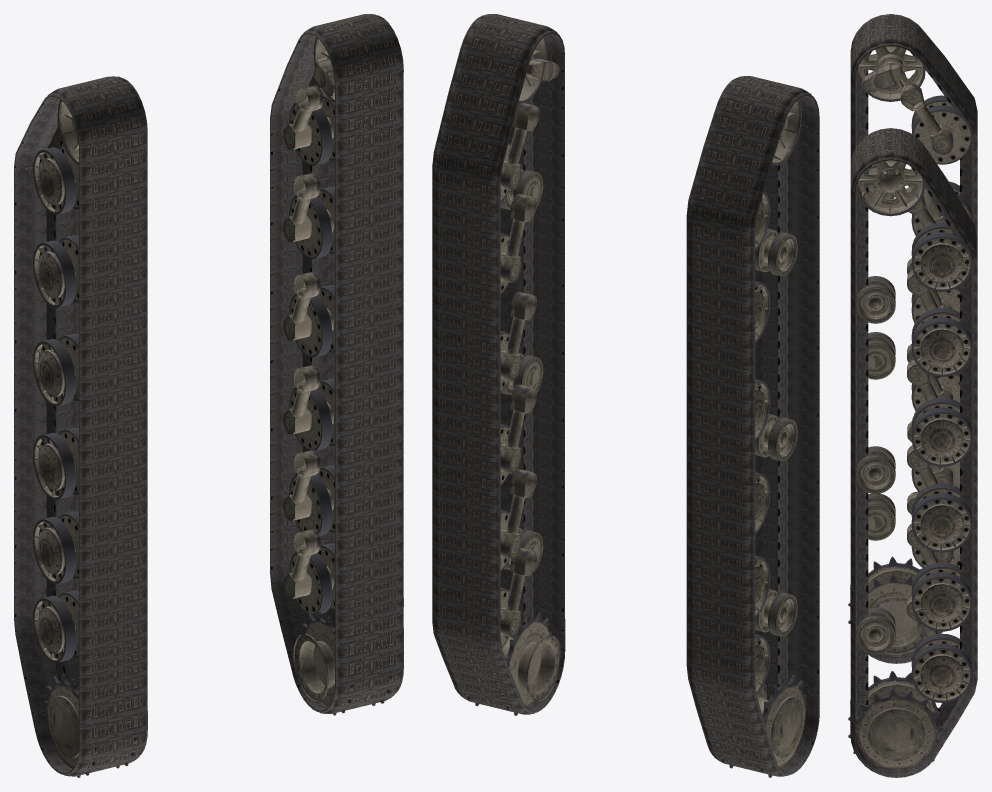
File: Chassis.glb
The picture shows the model from 3 angles, left to right: view 1: azimuth 30°, elevation 25°; view 2: azimuth 150°, elevation 25°; view 3: azimuth 270°, elevation 25°; orthographic projection. The views are drawn at different scales.
Visible parts, largest first — view 1: set_0_group_0, set_1_group_0, set_3_group_0, set_2_group_0; view 2: set_0_group_0, set_1_group_0, set_3_group_0, set_2_group_0; view 3: set_3_group_0, set_1_group_0, set_2_group_0, set_0_group_0.
Boxes of the visible parts, <box> form: set_0_group_0: <box>14,76,147,776</box>; set_1_group_0: <box>270,14,403,713</box>; set_3_group_0: <box>283,37,393,715</box>; set_2_group_0: <box>33,100,137,777</box>; set_0_group_0: <box>686,76,819,776</box>; set_1_group_0: <box>432,14,565,714</box>; set_3_group_0: <box>463,37,561,715</box>; set_2_group_0: <box>717,99,805,777</box>; set_3_group_0: <box>848,160,972,770</box>; set_1_group_0: <box>850,128,977,777</box>; set_2_group_0: <box>848,46,972,656</box>; set_0_group_0: <box>850,14,977,663</box>.
Bounding box in the file's own units: 3.31 × 6.71 × 1.26.
Materials: 4 (4 with a texture image).
